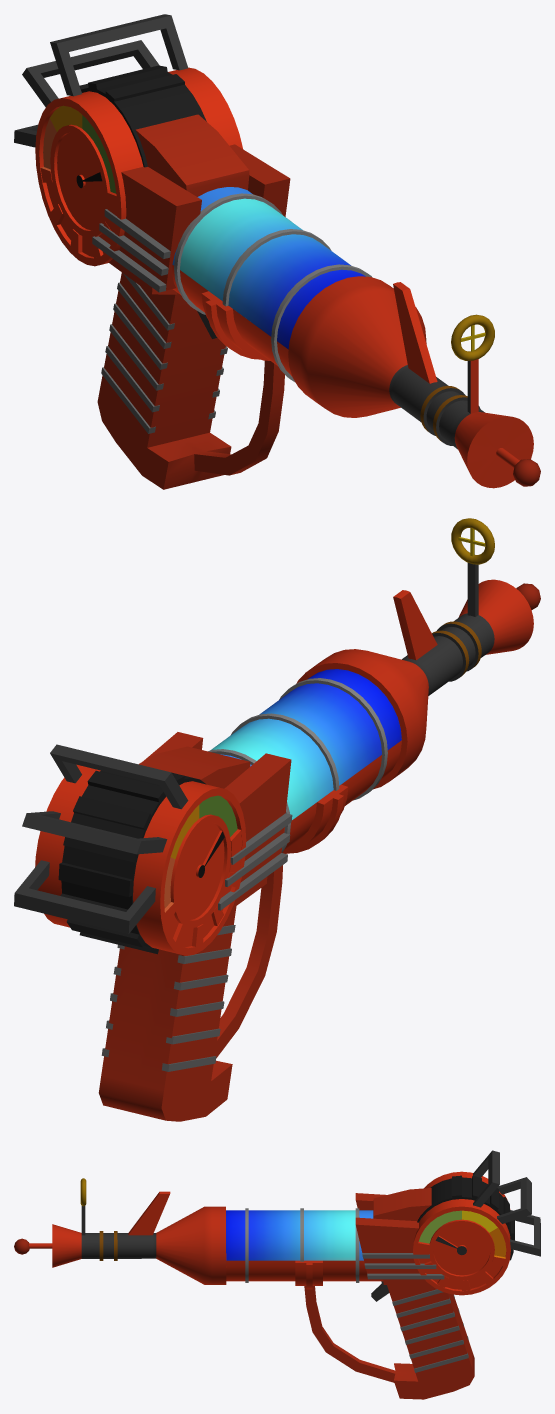
File: raygun.glb
3 views of the same model, one above another, from view 1: azimuth 30°, elevation 25°; view 2: azimuth 150°, elevation 25°; view 3: azimuth 270°, elevation 25° (orthographic). The views are drawn at different scales.
Parts seen in each view (by area): view 1: raygun; view 2: raygun; view 3: raygun.
Boxes of the visible parts, x1,y1,x2,y2 form: raygun: (14,14,540,489); raygun: (14,518,540,1121); raygun: (14,1150,540,1399).
Bounding box in the file's own units: 0.192 × 0.5455 × 1.16.
2 materials, 1 textured.
